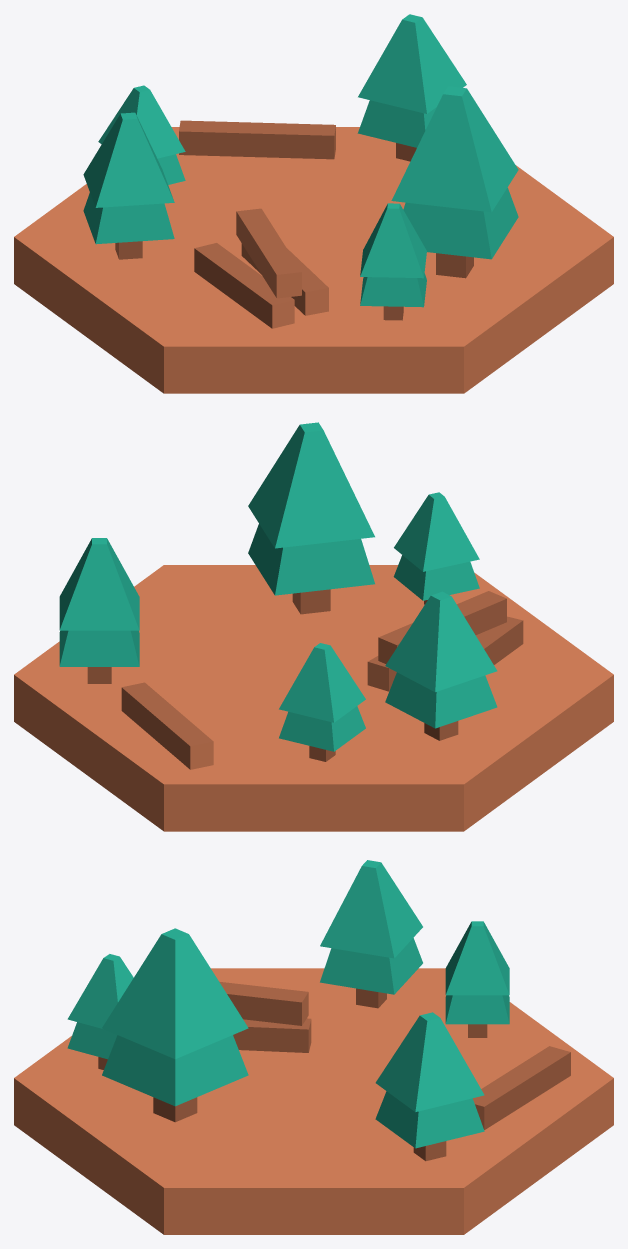
Rendered from Dirt Lumber.glb.
The picture shows the model from 3 angles, top to bottom: view 1: azimuth 30°, elevation 25°; view 2: azimuth 150°, elevation 25°; view 3: azimuth 270°, elevation 25°; orthographic projection.
Visible parts, largest first — view 1: dirt_lumber, tree, tree.001, OuterShell, tree.002, tree.004, log, tree.003; view 2: dirt_lumber, tree, tree.001, tree.002, tree.003, tree.004, OuterShell, log; view 3: dirt_lumber, tree, tree.002, tree.001, tree.003, OuterShell, tree.004, log.
Part boxes in pixels (x1,y1,x2,y2): dirt_lumber: (14,127,613,393); tree: (391,86,518,278); tree.001: (83,112,174,259); OuterShell: (194,208,328,328); tree.002: (357,14,466,161); tree.004: (360,203,426,320); log: (179,120,335,159); tree.003: (98,85,185,184); dirt_lumber: (14,565,613,831); tree: (248,422,374,614); tree.001: (385,591,497,740); tree.002: (59,538,139,683); tree.003: (279,643,365,761); tree.004: (393,492,479,604); OuterShell: (367,591,523,691); log: (121,682,213,769); dirt_lumber: (14,968,613,1234); tree: (102,928,248,1122); tree.002: (375,1012,484,1161); tree.001: (320,860,422,1008); tree.003: (445,921,509,1037); OuterShell: (219,981,311,1052); tree.004: (67,954,133,1069); log: (473,1046,570,1129).
Bounding box in the file's own units: 1 × 0.48 × 1.15.
